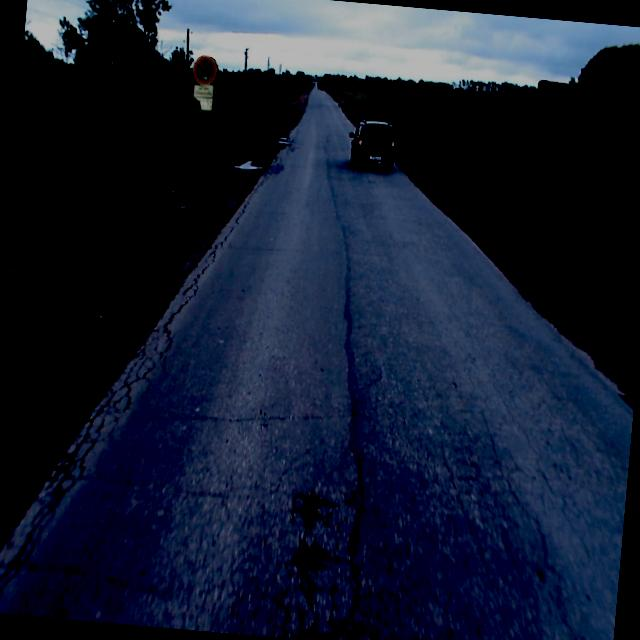road: (0, 91, 633, 640)
